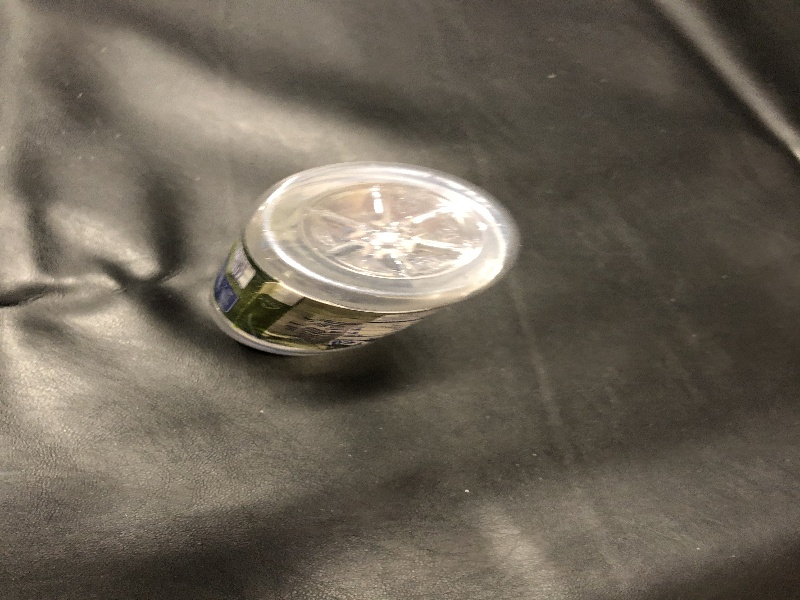plastic: (198, 154, 526, 364)
